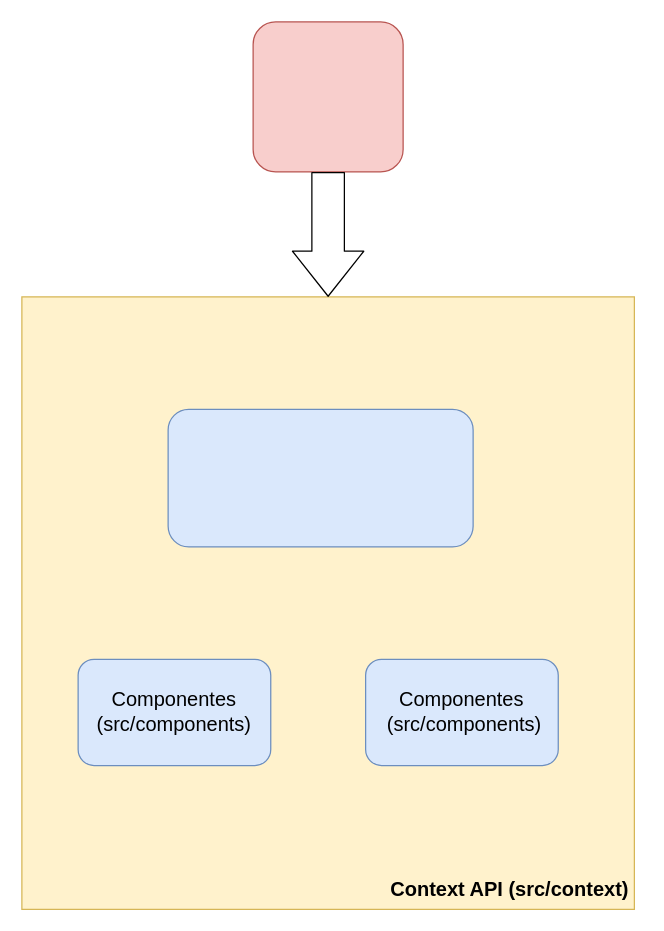
Image size: 664x931. Some labels were removed from this diagram. The centre of each missing label's shape, as x and y in pixels:
"Dados" belongs at point 327,96.
"Páginas (src/pages)" belongs at point 320,477.
